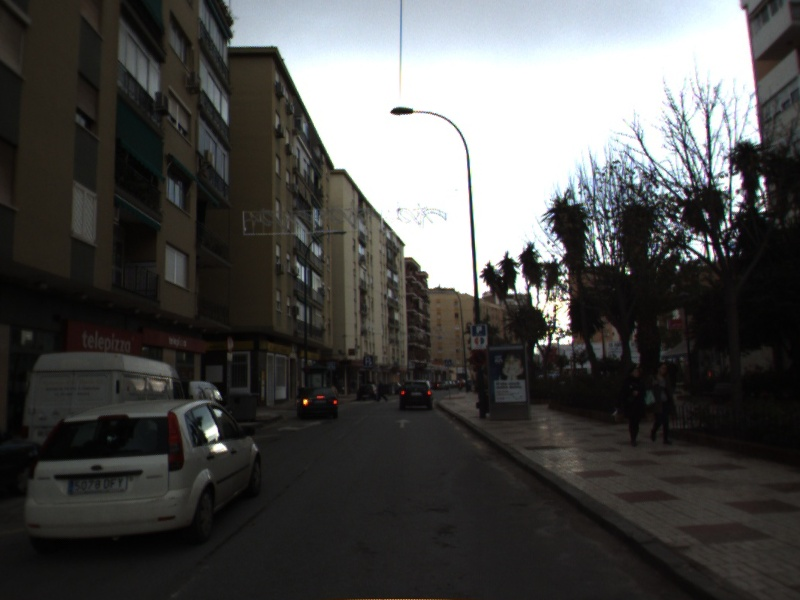STRAIGHT: (393, 417, 414, 430)
STRAIGHT_LEFT: (275, 418, 324, 434)
